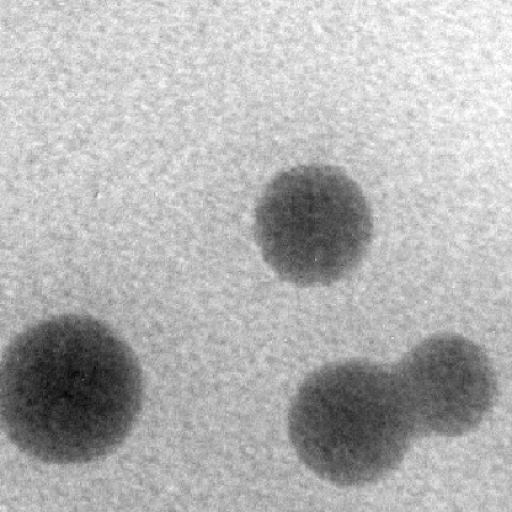Nanoparticles: (1, 312, 146, 470), (283, 350, 410, 495), (250, 168, 376, 290), (402, 329, 501, 438)
